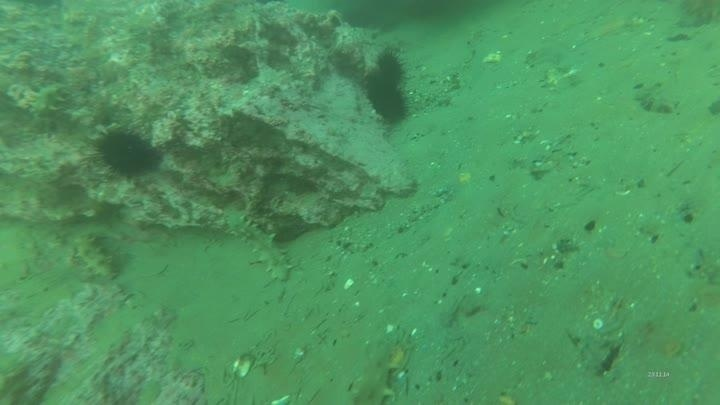echinus: (90, 123, 162, 182), (363, 68, 411, 126), (373, 47, 409, 89)
holothurian: (226, 210, 297, 285), (349, 335, 409, 405), (69, 229, 119, 285), (25, 79, 72, 120)
